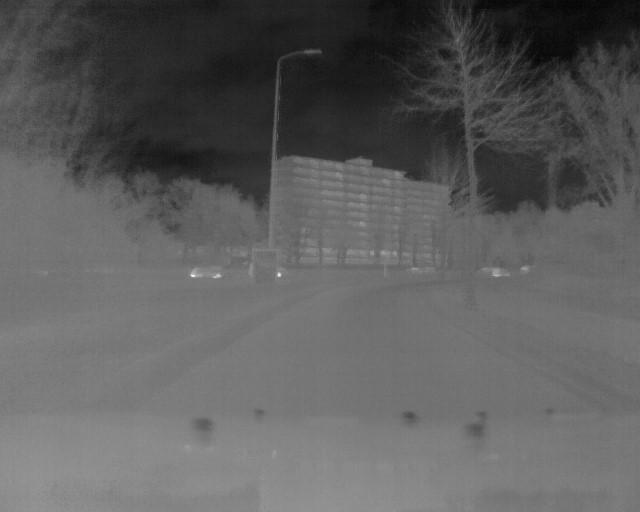car: (192, 265, 225, 280)
